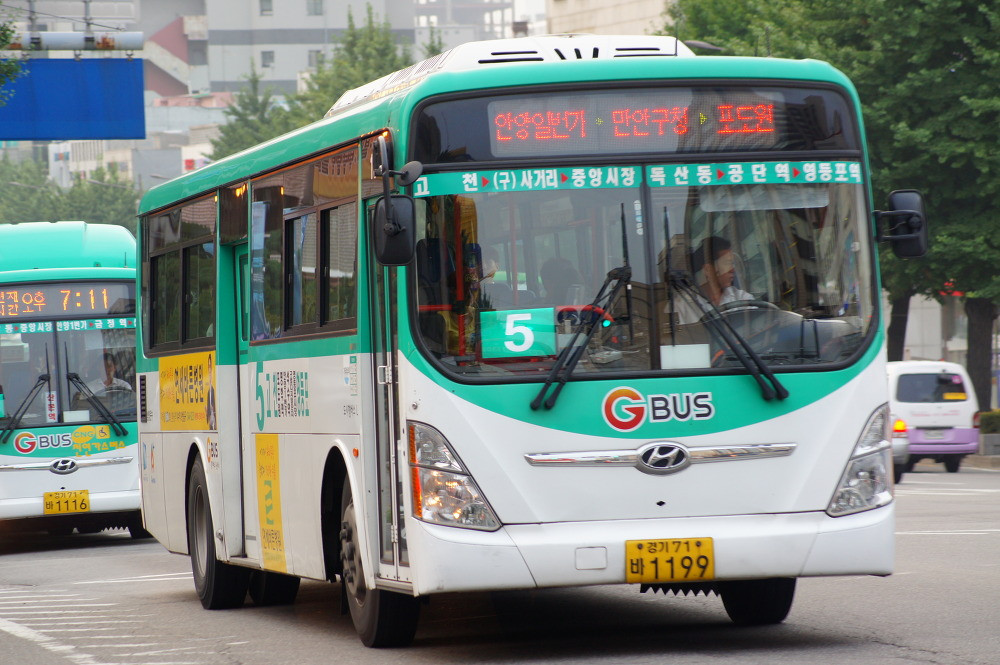bnum: (480, 309, 555, 357)
